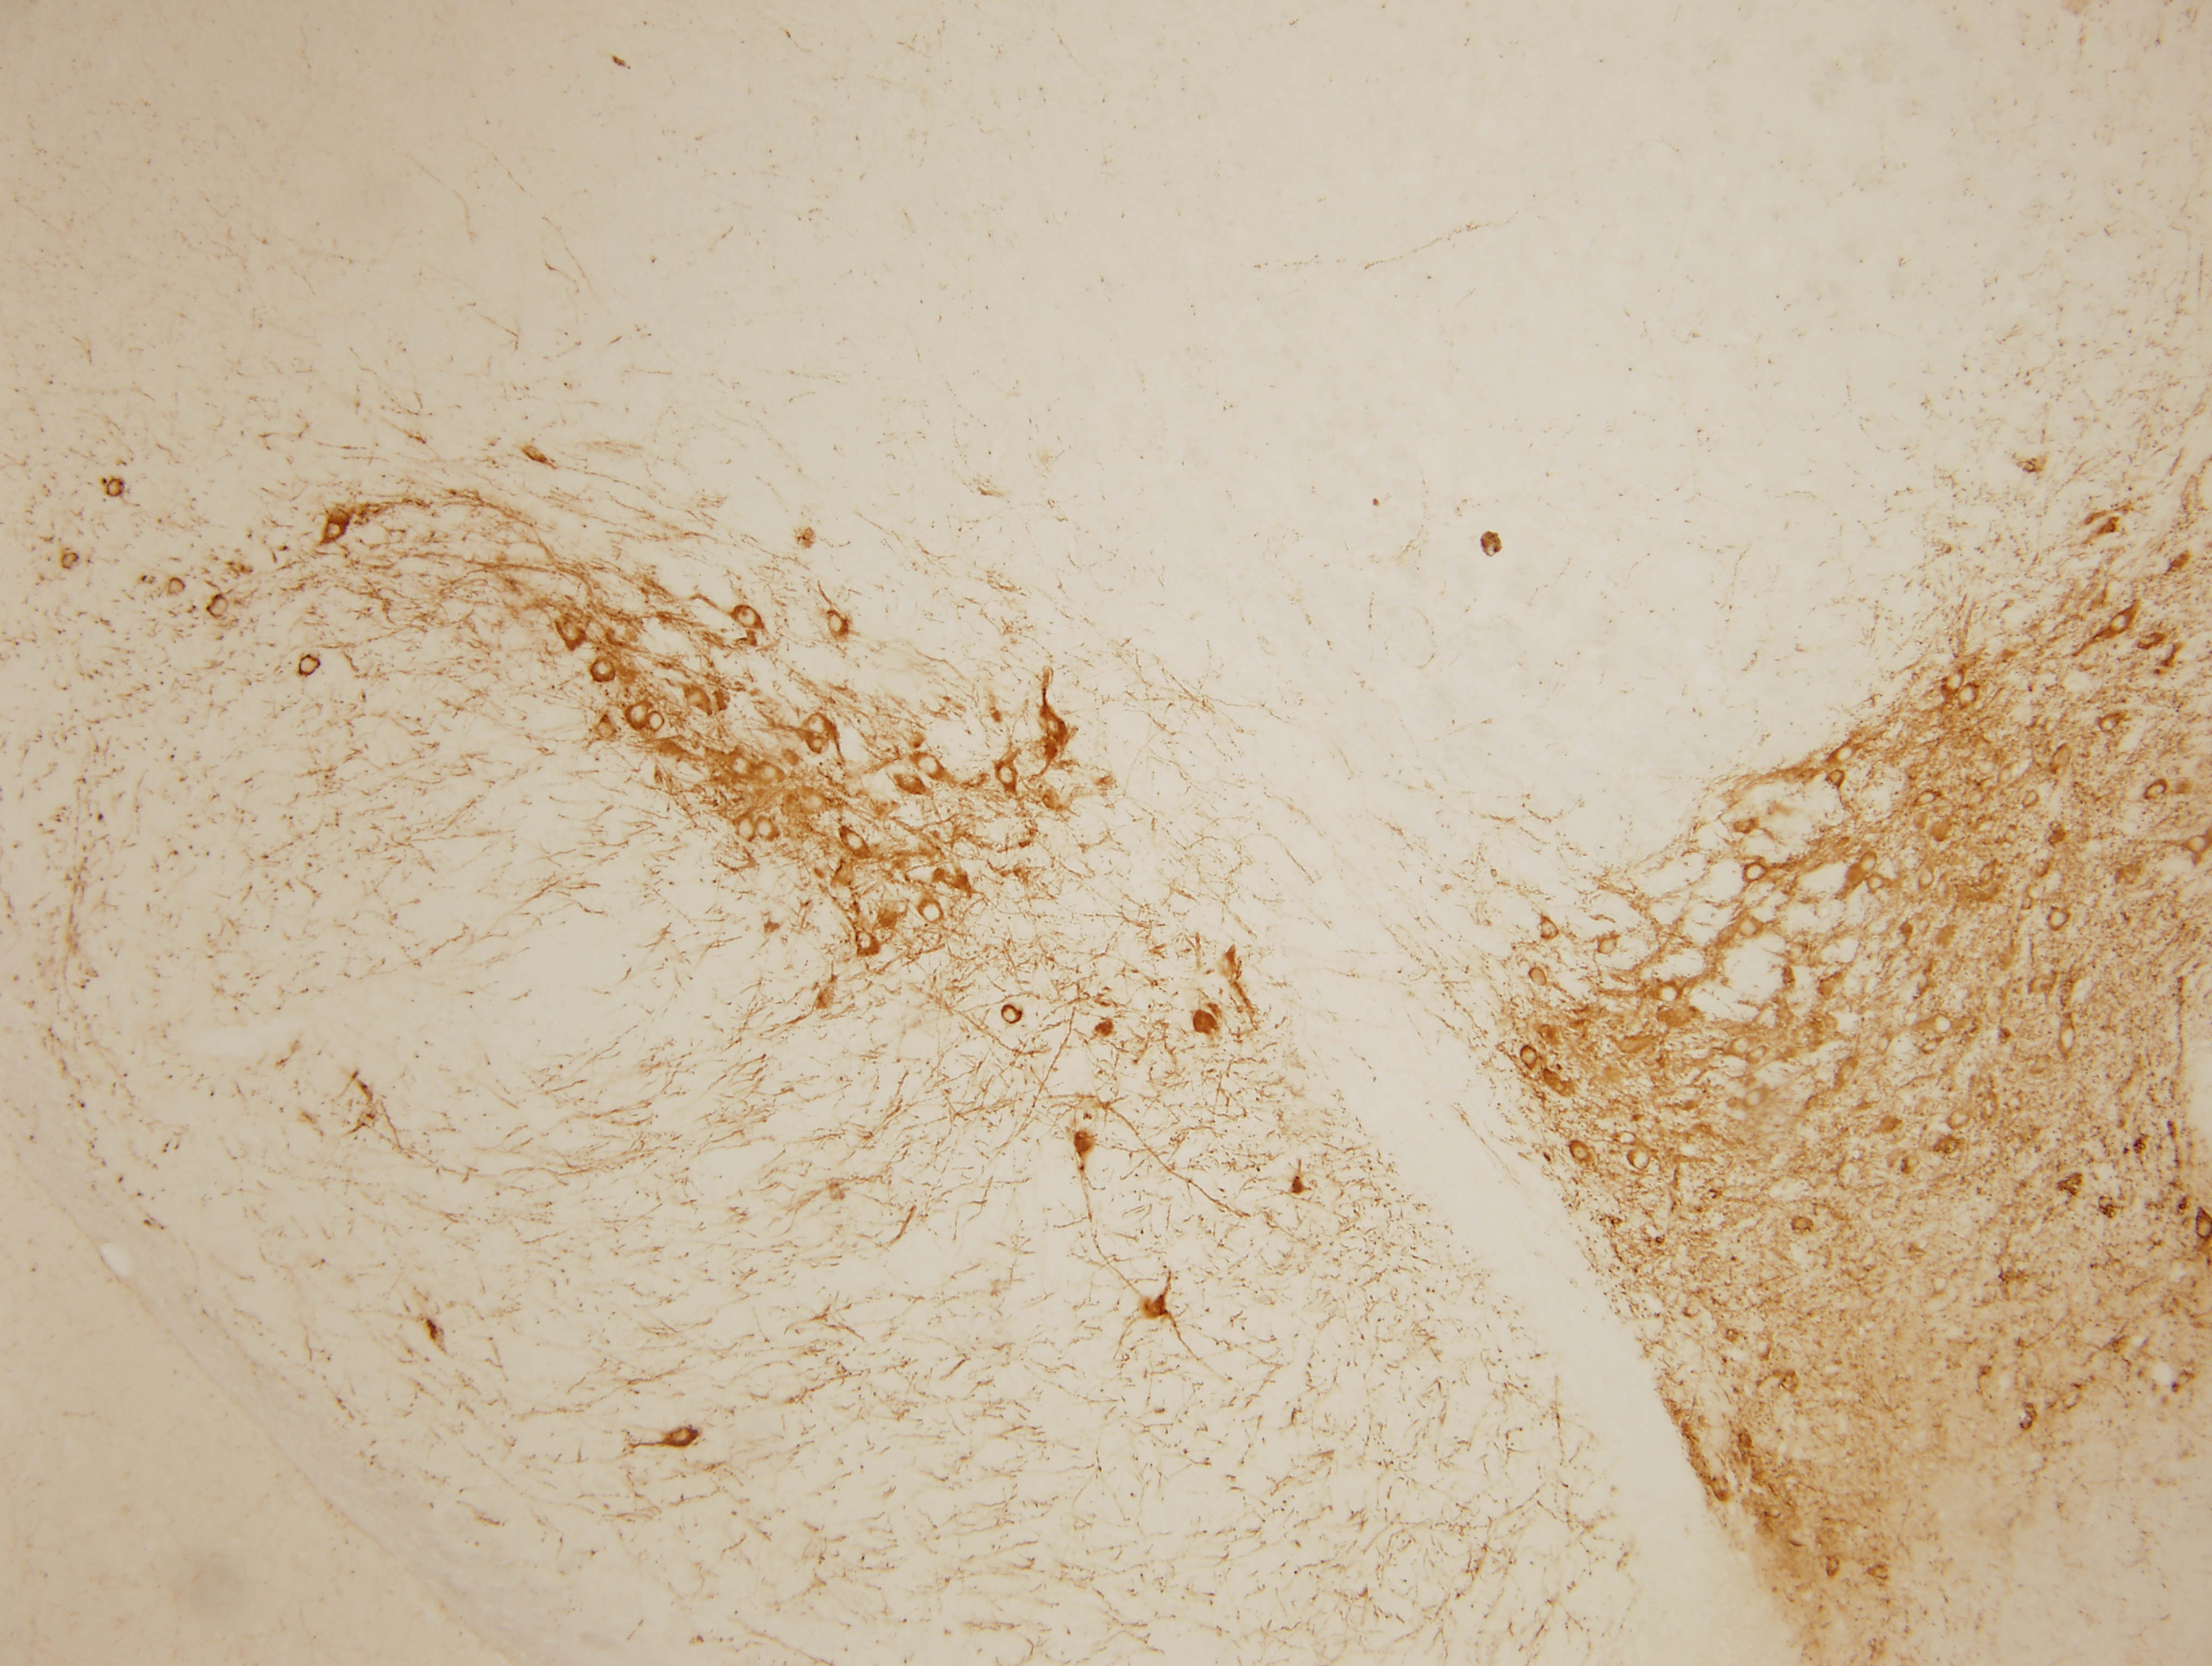neuron: (556, 618, 589, 651), (589, 712, 623, 746), (722, 753, 755, 786), (757, 753, 790, 786), (897, 768, 930, 801), (916, 749, 949, 782), (991, 756, 1025, 789), (1039, 737, 1072, 770), (1530, 915, 1563, 949), (1593, 931, 1626, 964), (1614, 1125, 1647, 1159), (1624, 1148, 1658, 1181), (1726, 807, 1759, 840), (1735, 915, 1768, 949), (1815, 970, 1848, 1003), (1848, 845, 1882, 878), (1896, 1150, 1929, 1183), (1908, 863, 1941, 896), (1909, 786, 1943, 819), (1913, 1036, 1946, 1069), (1946, 980, 1979, 1013), (1957, 683, 1990, 716), (1972, 1097, 2006, 1130), (2016, 788, 2049, 821), (2025, 854, 2058, 887), (2046, 746, 2079, 779), (2104, 606, 2137, 639), (2133, 623, 2167, 656), (2135, 775, 2168, 808), (318, 515, 351, 548), (624, 700, 656, 733), (640, 712, 671, 746), (687, 686, 720, 718), (733, 602, 766, 633), (794, 786, 825, 819), (808, 707, 841, 738), (820, 613, 853, 644), (839, 830, 871, 863), (855, 924, 888, 956), (918, 894, 951, 926), (943, 859, 974, 893), (1044, 705, 1077, 737), (1516, 1045, 1549, 1076), (1523, 963, 1555, 996), (1544, 1067, 1577, 1099), (1569, 1141, 1602, 1172), (1610, 1031, 1644, 1062), (1717, 1032, 1750, 1064), (1742, 859, 1773, 893), (1742, 1039, 1773, 1073), (1742, 1078, 1773, 1111), (1791, 1208, 1822, 1241), (1820, 761, 1854, 793), (1834, 1054, 1868, 1085), (1875, 1022, 1906, 1055), (1875, 1106, 1906, 1139), (1918, 1013, 1951, 1045), (1937, 668, 1969, 702), (1944, 1111, 1976, 1145), (1978, 854, 2009, 887), (1990, 763, 2023, 795), (2000, 817, 2034, 849), (2018, 894, 2051, 926), (2049, 1027, 2083, 1059), (2053, 906, 2084, 940), (56, 542, 87, 574), (588, 655, 619, 686), (804, 728, 836, 760), (1004, 1001, 1035, 1032), (103, 474, 135, 506), (1534, 1022, 1565, 1054), (1654, 982, 1686, 1013), (166, 569, 198, 600), (1827, 742, 1859, 773), (1859, 868, 1890, 900), (1999, 1092, 2030, 1123), (206, 590, 238, 621), (2097, 707, 2128, 738), (292, 655, 323, 686)
